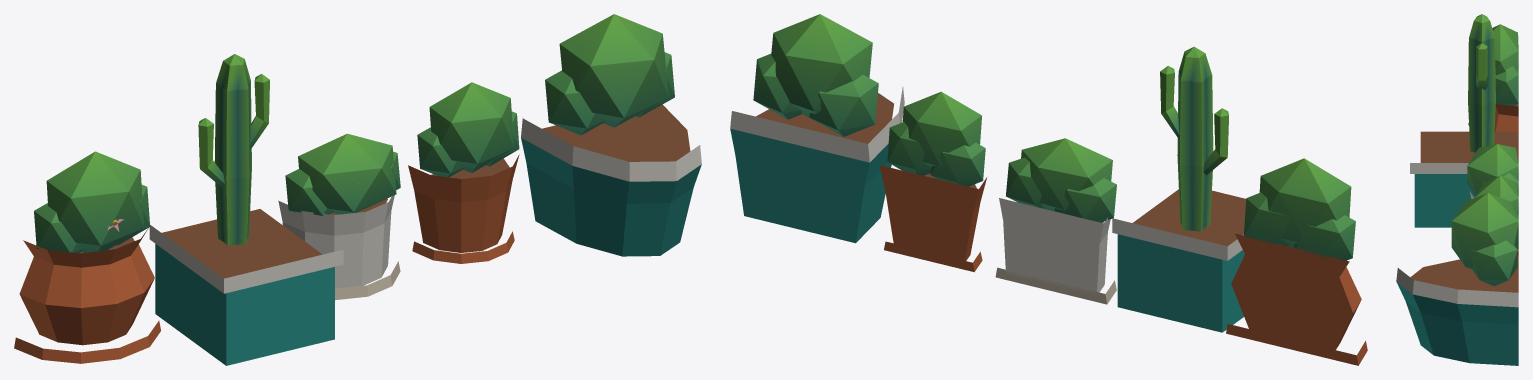
The model's file is balkon_saksilari.glb.
3 views of the same model, side by side, from view 1: azimuth 30°, elevation 25°; view 2: azimuth 150°, elevation 25°; view 3: azimuth 270°, elevation 25° (orthographic). The views are drawn at different scales.
Visible parts, largest first — view 1: balkon_saksilari; view 2: balkon_saksilari; view 3: balkon_saksilari.
Part boxes in pixels (x1,y1,x2,y2): balkon_saksilari: (14,14,701,365); balkon_saksilari: (730,14,1367,365); balkon_saksilari: (1396,14,1518,365).
Bounding box in the file's own units: 1.8 × 0.7 × 0.4.
